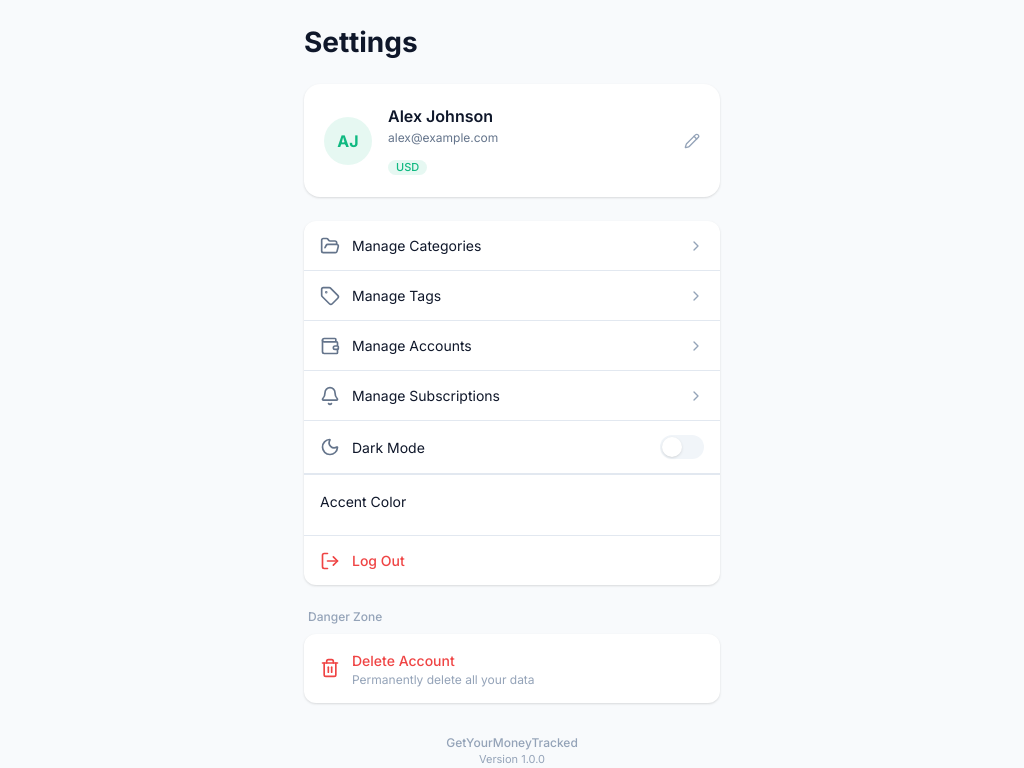
Scenario: SettingsPage › shows logout confirmation dialog when Log Out is clicked
Click the button with test id "logout-btn" at (378, 561), box x1=304 y1=536 x2=720 y2=585
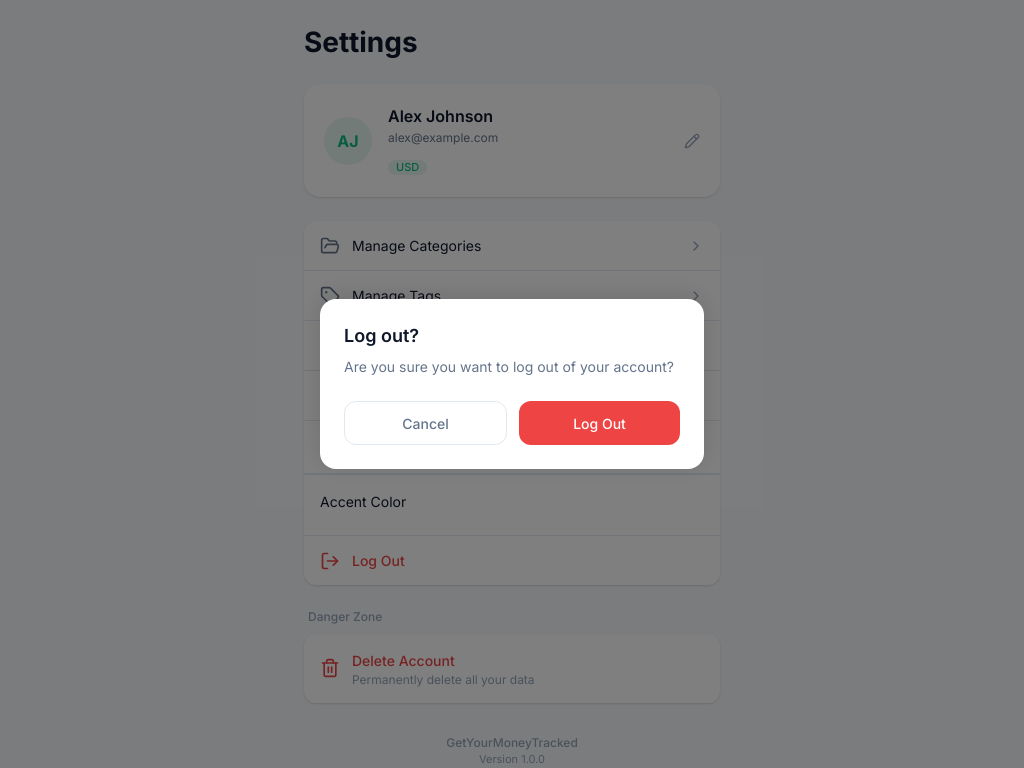
expect the dialog with test id "logout-confirm-dialog" is shown: met, box x1=320 y1=299 x2=704 y2=469
